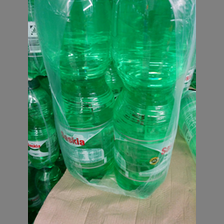water: (111, 1, 195, 199), (33, 1, 113, 184)
